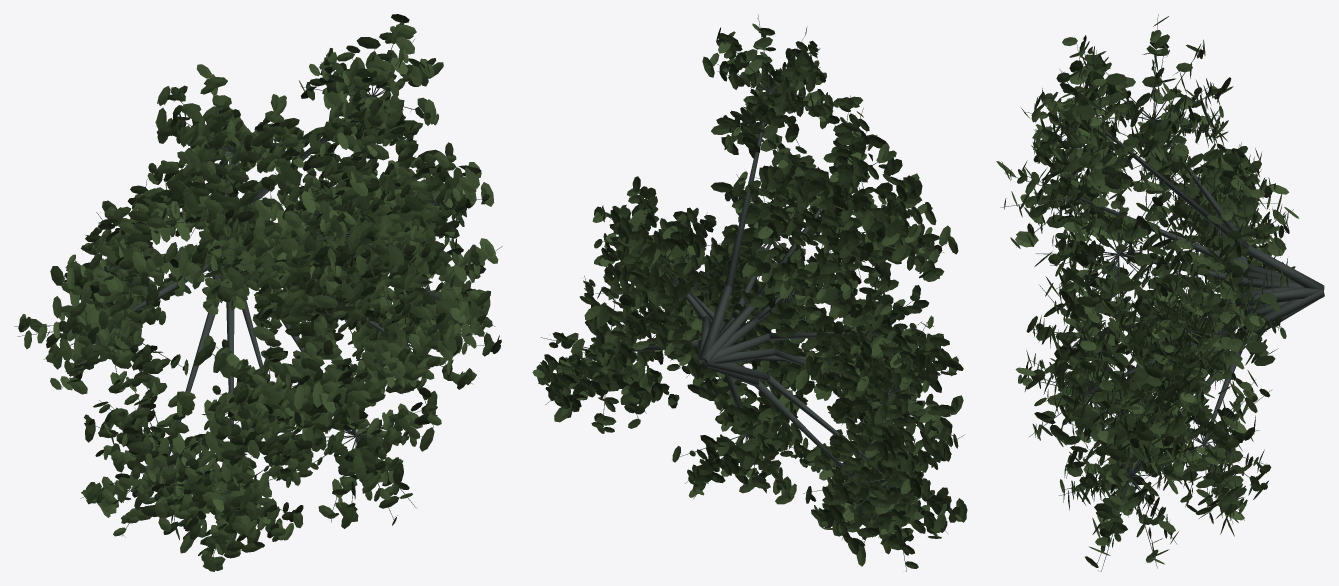
The model's file is tree_m2.obj.
3 views of the same model, side by side, from view 1: azimuth 30°, elevation 25°; view 2: azimuth 150°, elevation 25°; view 3: azimuth 270°, elevation 25° (orthographic). The views are drawn at different scales.
Bounding box in the file's own units: 1.69 × 1.78 × 1.03.
Materials: 1 (1 with a texture image).
